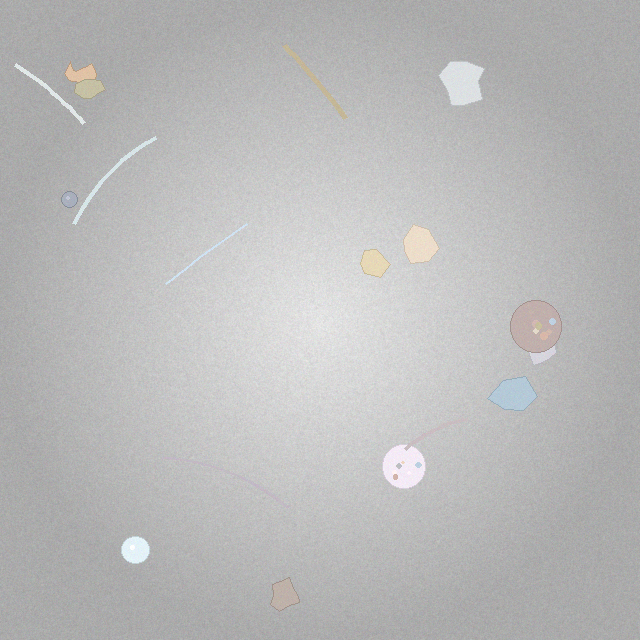fiber: (70, 135, 159, 229), (159, 454, 292, 511), (279, 40, 351, 124), (163, 222, 249, 288), (11, 61, 87, 128), (401, 415, 472, 454)
film: (64, 61, 97, 87)
foam: (510, 301, 562, 352), (382, 445, 426, 489)
fragment: (439, 62, 484, 105), (488, 377, 537, 410), (404, 224, 440, 264), (527, 333, 556, 366), (271, 577, 299, 611), (361, 249, 390, 278), (75, 80, 106, 99)
pellet: (122, 536, 149, 564), (62, 192, 78, 208)
